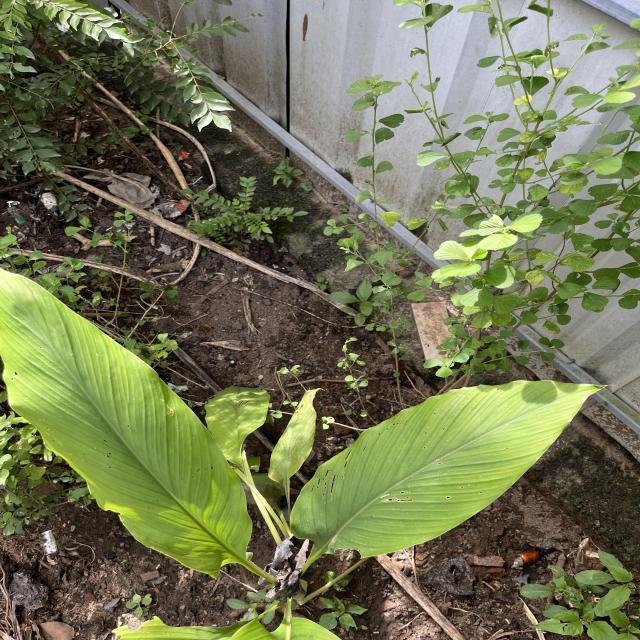Curcuma longa: (0, 252, 258, 581), (286, 370, 616, 562)
